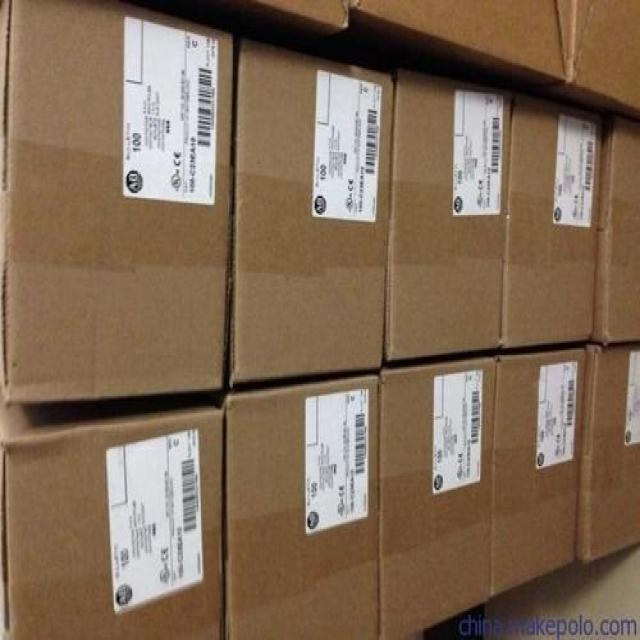box: (4, 3, 235, 405), (229, 42, 395, 385), (0, 391, 226, 638), (226, 372, 379, 638), (385, 69, 515, 357), (379, 355, 496, 638), (500, 92, 604, 349), (491, 345, 584, 597), (342, 1, 573, 94), (575, 339, 639, 564), (541, 1, 639, 122), (160, 1, 353, 58), (594, 116, 639, 347)
